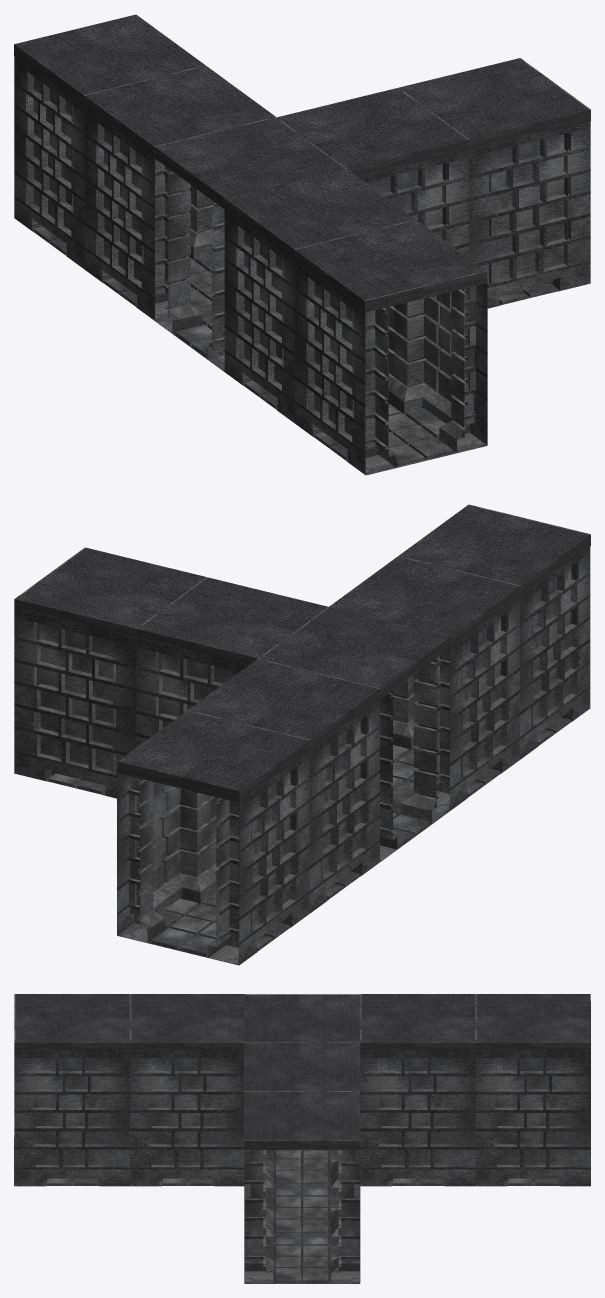
File: Croissement(T).obj
The picture shows the model from 3 angles, top to bottom: view 1: azimuth 30°, elevation 25°; view 2: azimuth 150°, elevation 25°; view 3: azimuth 270°, elevation 25°; orthographic projection. The views are drawn at different scales.
Visible parts, largest first — view 1: Sol.017_Plane.095, Sol.014_Plane.092, Sol.020_Plane.098, Sol.016_Plane.094, Sol.018_Plane.096, Sol.015_Plane.093, Plafond.002_Cube.155, Colonne2.R.005_Cube.156, Cube.052_Cube.153, Sol.037_Plane.118; view 2: Sol.018_Plane.096, Sol.014_Plane.092, Sol.016_Plane.094, Sol.020_Plane.098, Sol.017_Plane.095, Sol.015_Plane.093, Plafond.002_Cube.155, Cube.052_Cube.153, Colonne2.R.005_Cube.156, Sol.037_Plane.118; view 3: Sol.018_Plane.096, Sol.017_Plane.095, Sol.020_Plane.098, Sol.016_Plane.094, Sol.014_Plane.092, Sol.015_Plane.093, Plafond.002_Cube.155, Sol.037_Plane.118.
Part boxes in pixels (x1=…): Sol.017_Plane.095: x1=294, y1=220, x2=487, y2=475; Sol.014_Plane.092: x1=399, y1=58, x2=590, y2=308; Sol.020_Plane.098: x1=84, y1=66, x2=276, y2=320; Sol.016_Plane.094: x1=224, y1=169, x2=416, y2=423; Sol.018_Plane.096: x1=14, y1=14, x2=205, y2=269; Sol.015_Plane.093: x1=277, y1=87, x2=469, y2=257; Plafond.002_Cube.155: x1=155, y1=117, x2=346, y2=208; Colonne2.R.005_Cube.156: x1=155, y1=168, x2=202, y2=333; Cube.052_Cube.153: x1=207, y1=200, x2=224, y2=371; Sol.037_Plane.118: x1=155, y1=304, x2=224, y2=371; Sol.018_Plane.096: x1=117, y1=710, x2=309, y2=965; Sol.014_Plane.092: x1=14, y1=547, x2=206, y2=798; Sol.016_Plane.094: x1=328, y1=556, x2=520, y2=810; Sol.020_Plane.098: x1=188, y1=658, x2=380, y2=913; Sol.017_Plane.095: x1=399, y1=504, x2=590, y2=759; Sol.015_Plane.093: x1=136, y1=577, x2=328, y2=747; Plafond.002_Cube.155: x1=258, y1=607, x2=449, y2=699; Cube.052_Cube.153: x1=401, y1=658, x2=449, y2=823; Colonne2.R.005_Cube.156: x1=380, y1=690, x2=397, y2=861; Sol.037_Plane.118: x1=381, y1=794, x2=449, y2=861; Sol.018_Plane.096: x1=475, y1=994, x2=590, y2=1186; Sol.017_Plane.095: x1=14, y1=994, x2=129, y2=1186; Sol.020_Plane.098: x1=360, y1=994, x2=475, y2=1186; Sol.016_Plane.094: x1=129, y1=994, x2=244, y2=1186; Sol.014_Plane.092: x1=244, y1=1092, x2=360, y2=1283; Sol.015_Plane.093: x1=244, y1=1043, x2=360, y2=1234; Plafond.002_Cube.155: x1=244, y1=994, x2=359, y2=1042; Sol.037_Plane.118: x1=266, y1=1150, x2=338, y2=1185.
Size of the model in its own units: 2.35 by 1.07 by 3.91.
